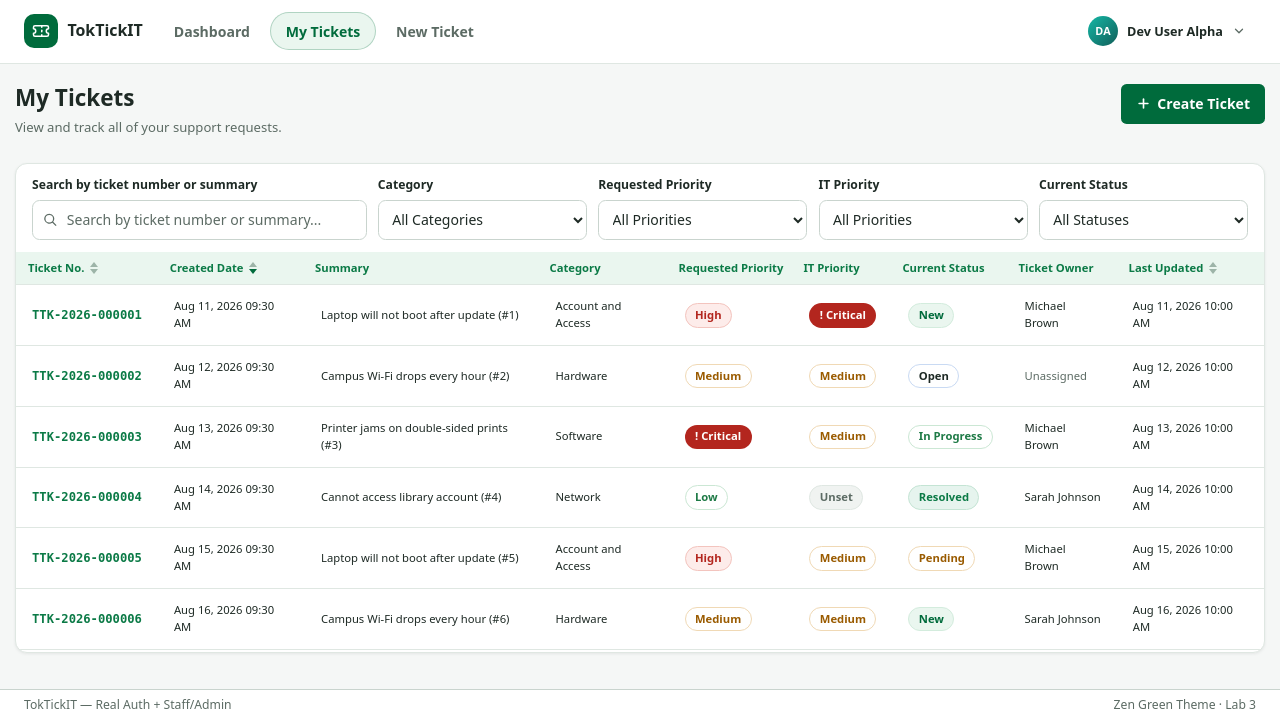
Test: UI-06 — debounced search, filters issue correct API params › the search × clear button empties the field and refetches without the param
This screenshot has width=1280, height=720.
Expected: the heading "My Tickets" is shown, [15,82,134,113]
In the search field with placeholder "Search by ticket number or summary...": (199, 220) [32,200,367,240], type "printer"
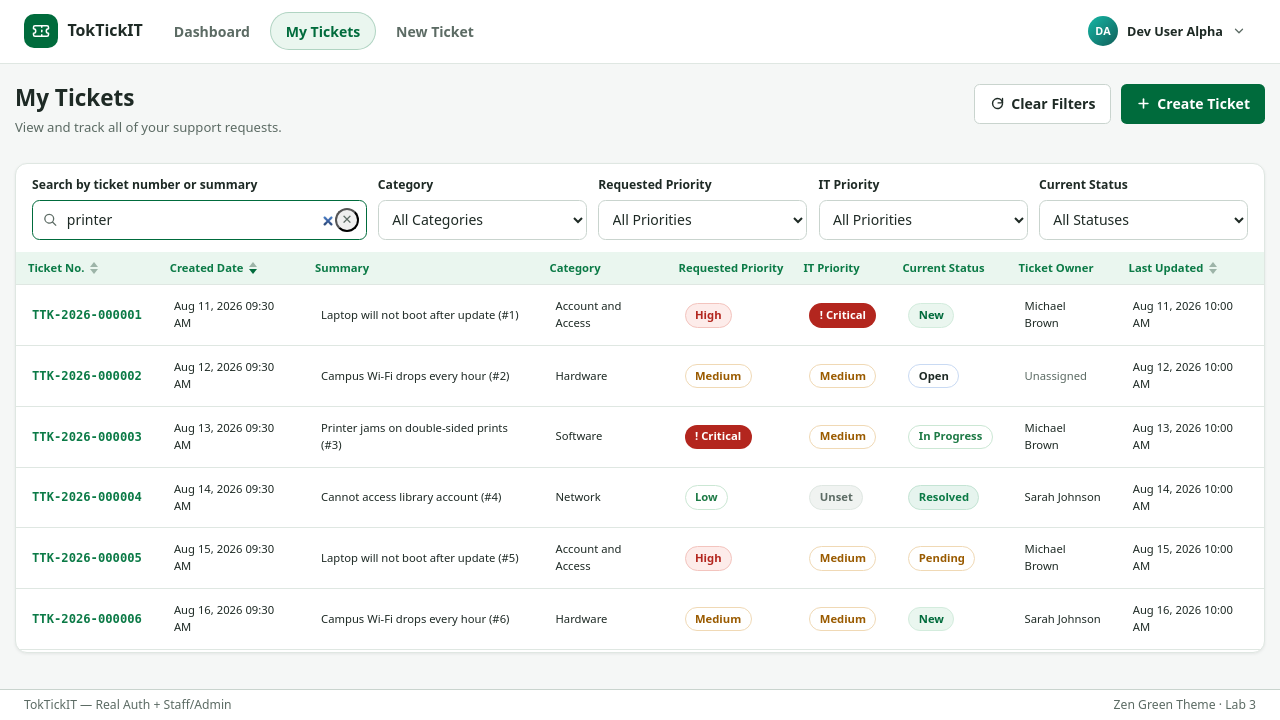
Click the button named "Clear search": (347, 220) [335,208,359,232]
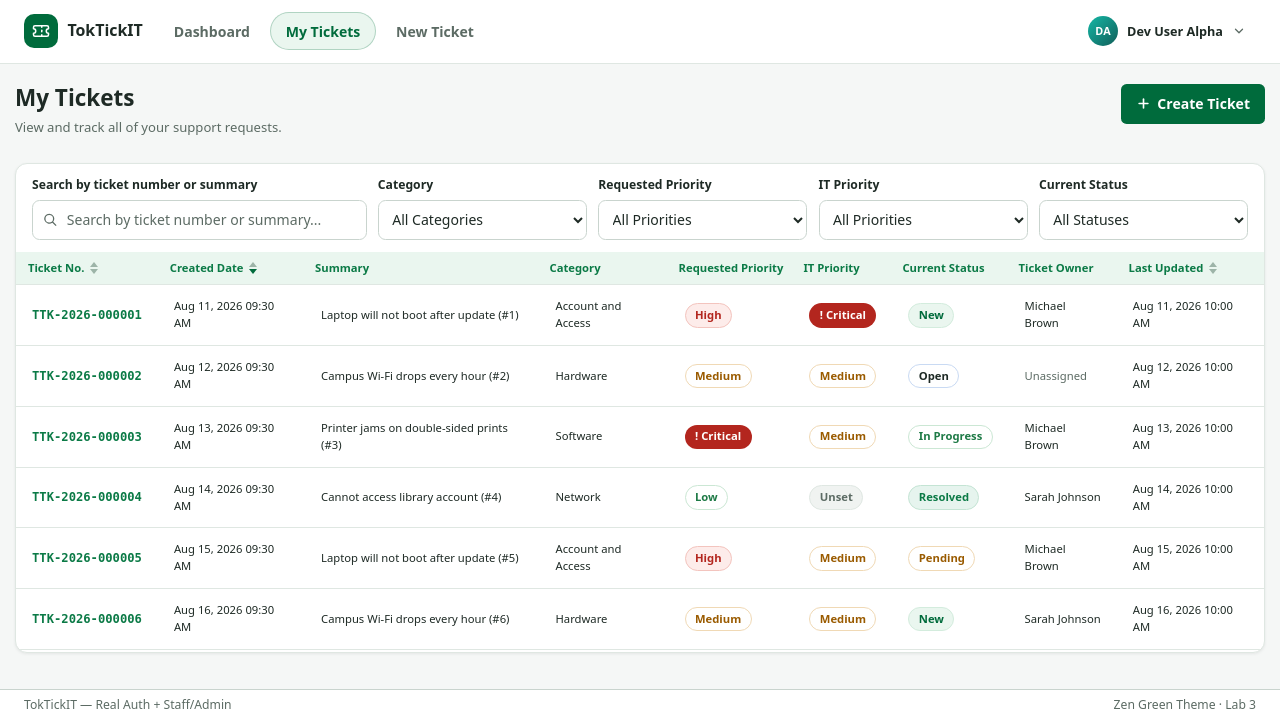
Expected: the search field with placeholder "Search by ticket number or summary..." is empty, [32,200,367,240]
